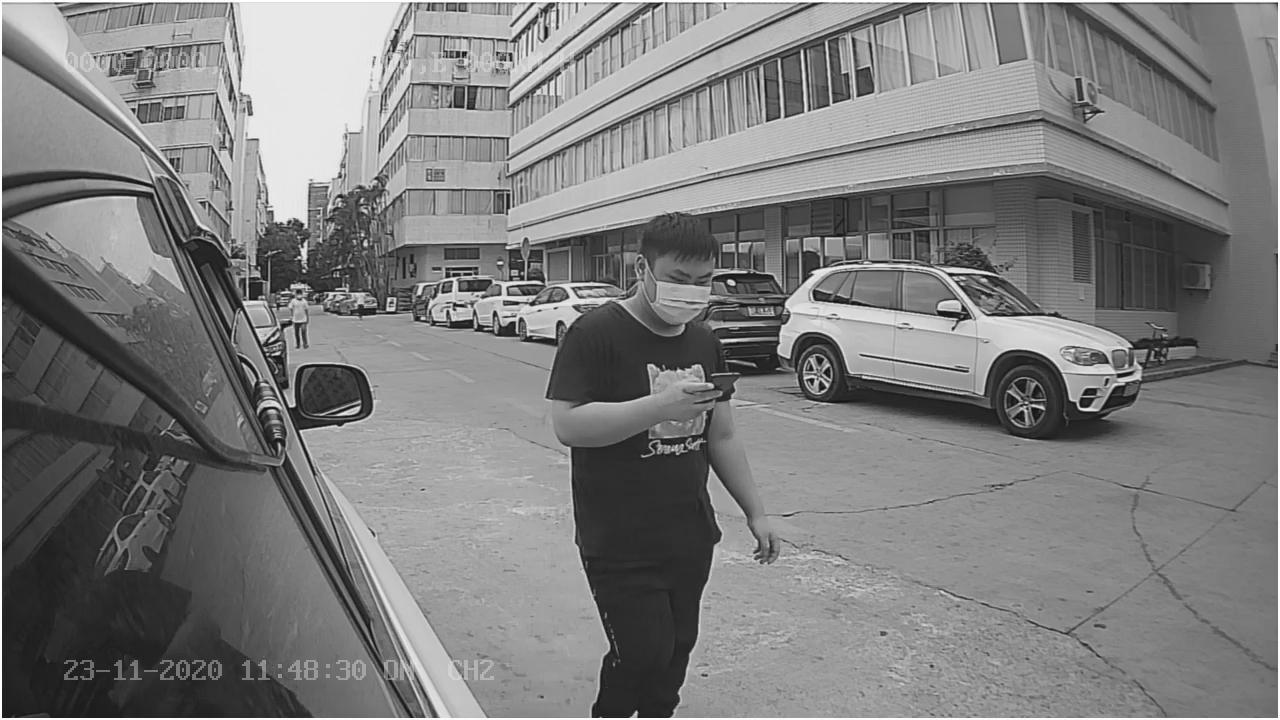person: (541, 200, 776, 573)
